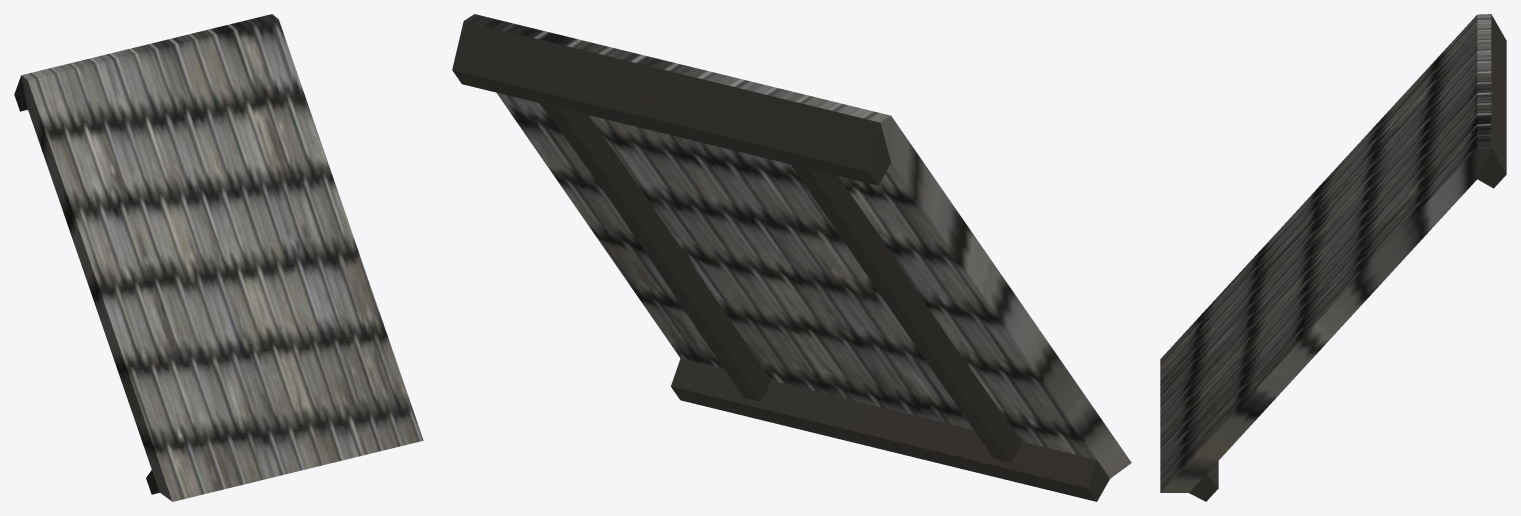
The model's file is ROOF FLAT.fbx.
The picture shows the model from 3 angles, left to right: view 1: azimuth 30°, elevation 25°; view 2: azimuth 150°, elevation 25°; view 3: azimuth 270°, elevation 25°; orthographic projection. The views are drawn at different scales.
Parts seen in each view (by area): view 1: RoofFlat; view 2: RoofFlat; view 3: RoofFlat.
Boxes of the visible parts, x1=… form: RoofFlat: x1=14, y1=14, x2=423, y2=501; RoofFlat: x1=452, y1=14, x2=1131, y2=501; RoofFlat: x1=1160, y1=14, x2=1506, y2=501.
Size of the model in its own units: 250 by 308 by 273.
